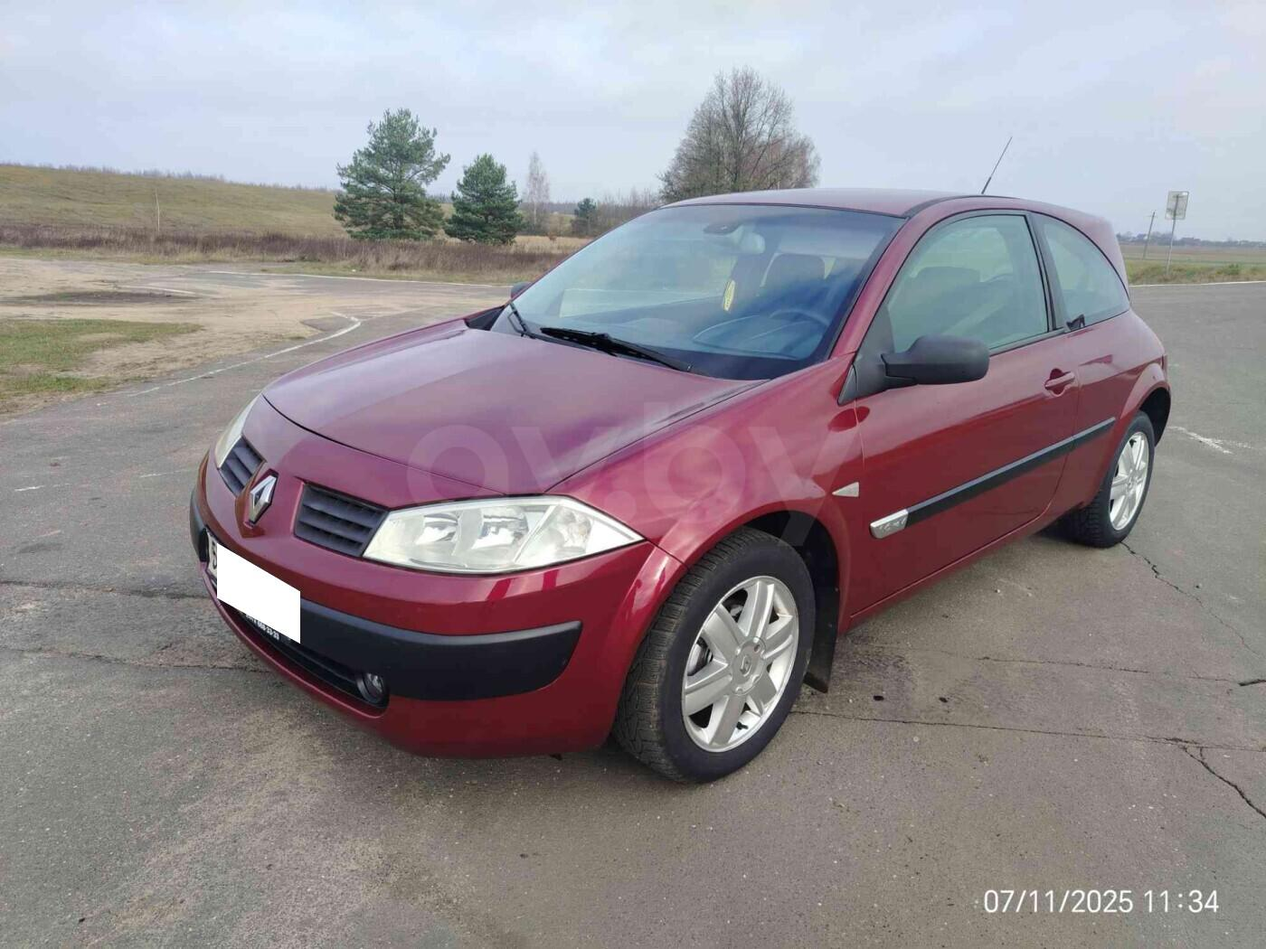Megane_2002-2006: (186, 183, 1177, 784)
